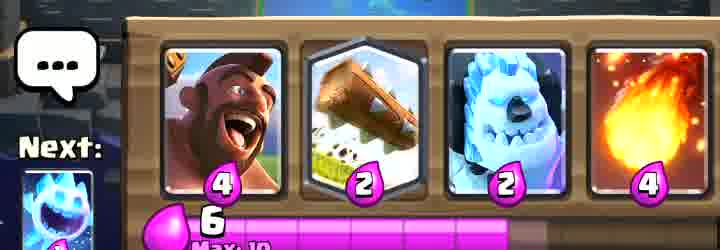fireball: (596, 46, 710, 193)
hog-rider: (167, 47, 284, 197)
ice-golem: (447, 53, 561, 198)
ice-spirit: (24, 171, 93, 250)
log: (311, 43, 422, 190)
